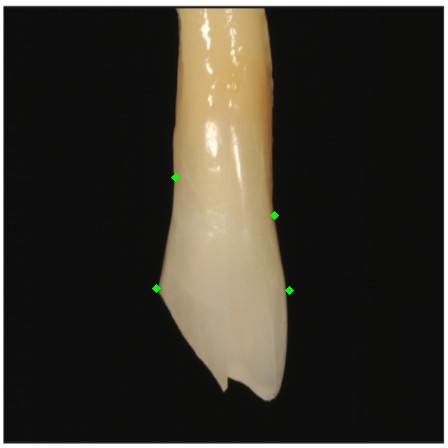coin_1: (175, 177, 195, 197)
coin_2: (156, 288, 176, 308)
coin_3: (274, 215, 294, 235)
coin_4: (289, 290, 309, 310)
